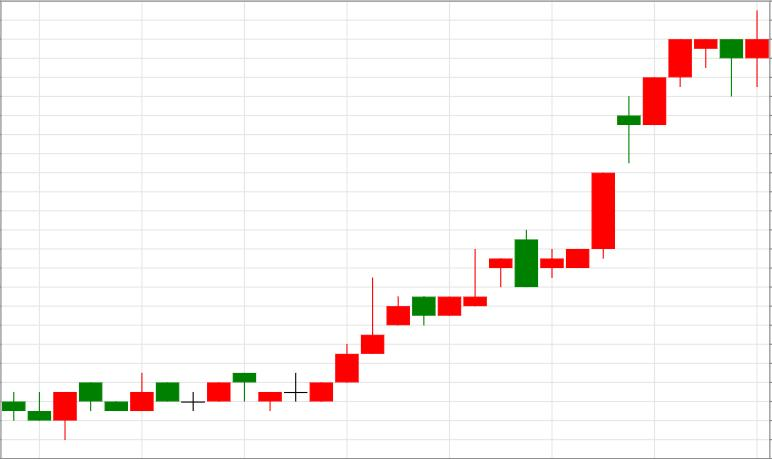bearish_engulfing_fall: (310, 229, 538, 402)
